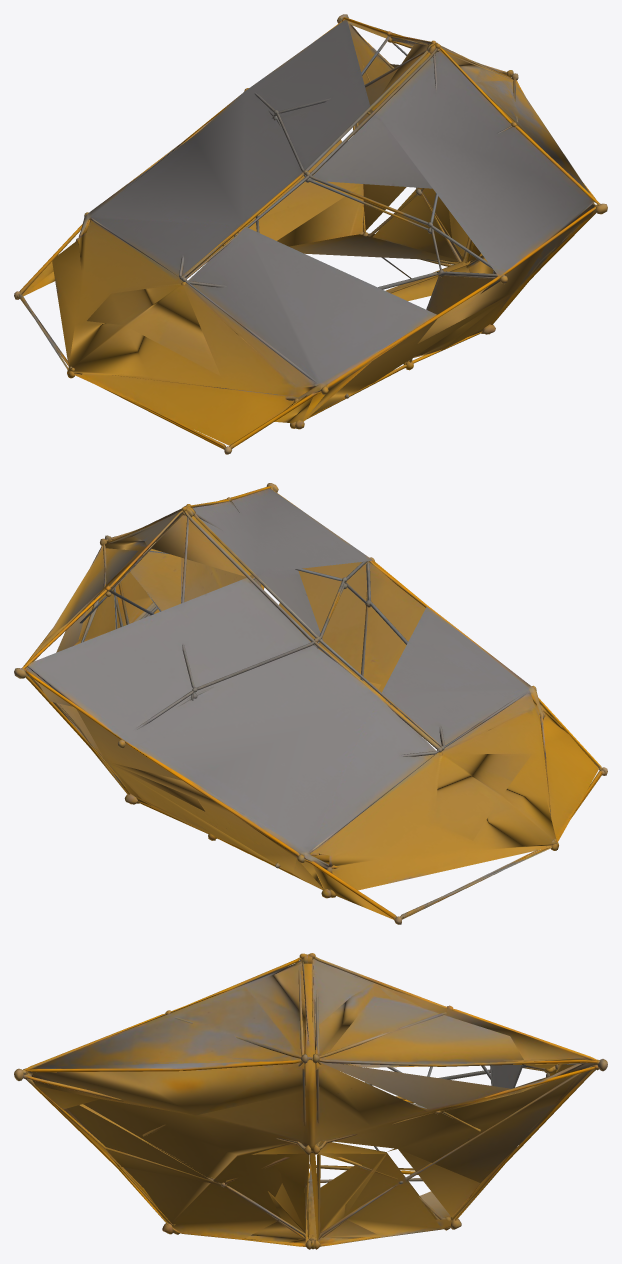
Rendered from sat3_8.fbx.
3 renders of one model, top to bottom at view 1: azimuth 30°, elevation 25°; view 2: azimuth 150°, elevation 25°; view 3: azimuth 270°, elevation 25°, orthographic. The views are drawn at different scales.
Visible parts, largest first — view 1: tripo_node_c20921b4; view 2: tripo_node_c20921b4; view 3: tripo_node_c20921b4.
Boxes of the visible parts, <box> form: tripo_node_c20921b4: <box>14,14,607,454</box>; tripo_node_c20921b4: <box>14,483,607,924</box>; tripo_node_c20921b4: <box>14,953,607,1249</box>.
Bounding box in the file's own units: 0.9995 × 0.563 × 0.9966.
